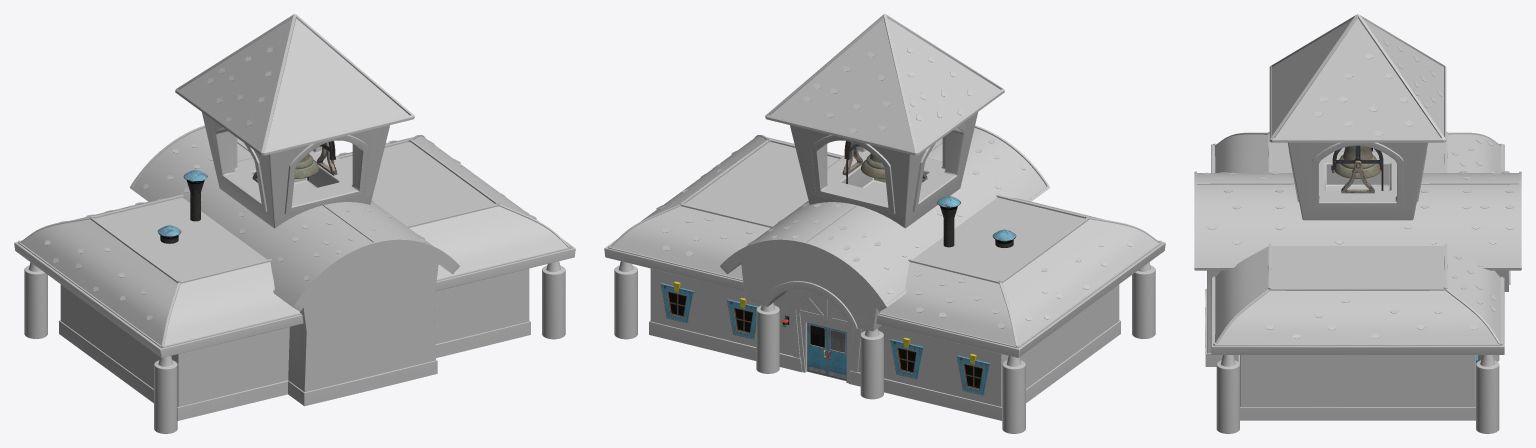
The model's file is School.fbx.
The picture shows the model from 3 angles, left to right: view 1: azimuth 30°, elevation 25°; view 2: azimuth 150°, elevation 25°; view 3: azimuth 270°, elevation 25°; orthographic projection.
Visible parts, largest first — view 1: Main, Decor; view 2: Main, Decor, FrontDoor; view 3: Main, Decor.
Boxes of the visible parts, x1,y1,x2,y2 form: Main: (14, 14, 575, 433); Decor: (157, 141, 337, 243); Main: (604, 14, 1165, 433); Decor: (781, 141, 1016, 326); FrontDoor: (807, 322, 846, 380); Main: (1194, 14, 1521, 433); Decor: (1331, 145, 1383, 193).
Size of the model in its own units: 2035 by 1500 by 1388.
